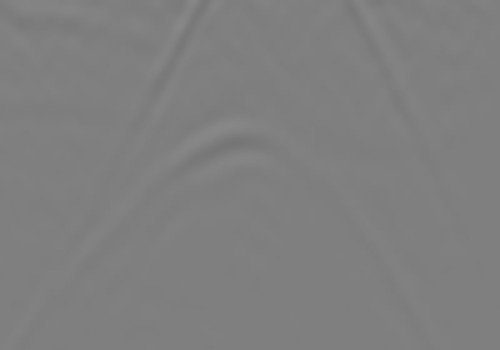hyperbola: (63, 122, 403, 320)
